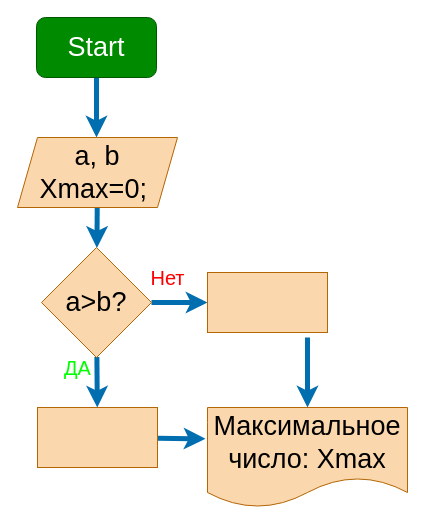
Image size: 425x525. Some labels were removed from this diagram. The centre of each missing label's shape, as x and y in pixels:
"Xmax=a;" goes at point (97, 437).
"Xmax=b;" goes at point (267, 302).
